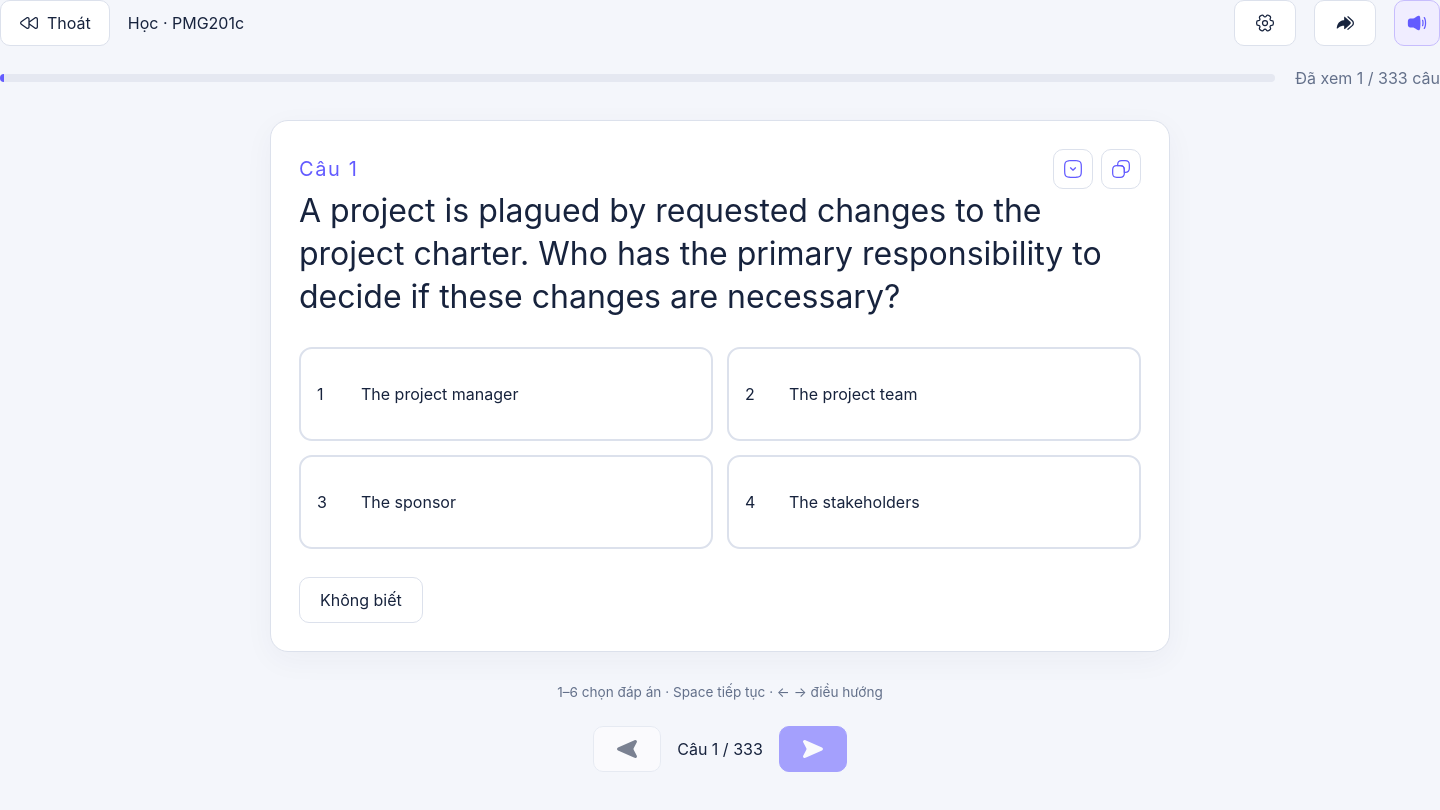
Test: PMG201c StudyShell › selects multiple answers, submits explicitly, and reveals every correct answer
The width and height of the screenshot is (1440, 810).
Check: the text "Câu 1" is shown, box [299,154,358,184]
Click the button named "Chuyển câu hỏi". click: (1345, 23)
box: [1314,0,1376,46]
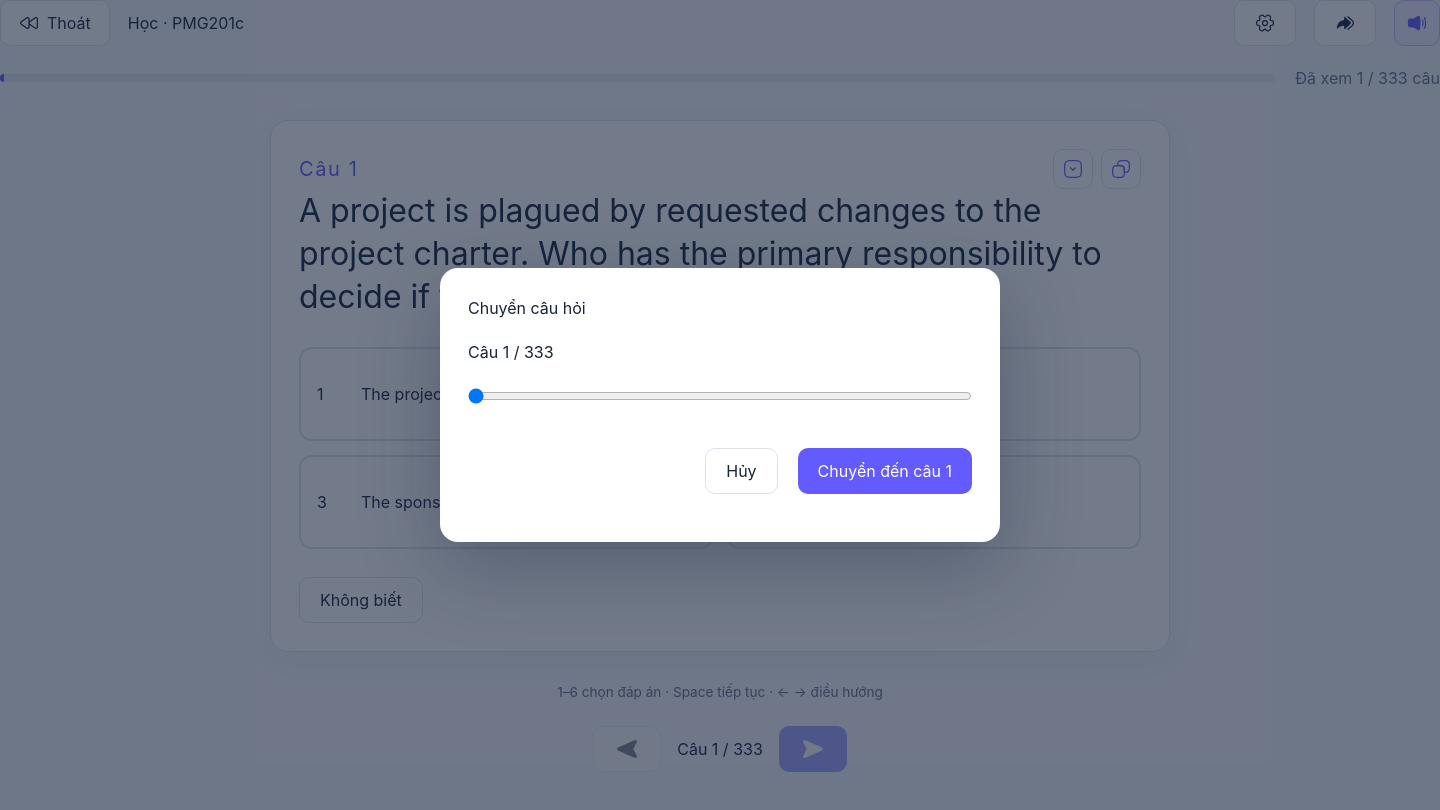
Set the slider named "Vị trí câu hỏi" to "90". click: (607, 396)
box: [468,388,972,404]
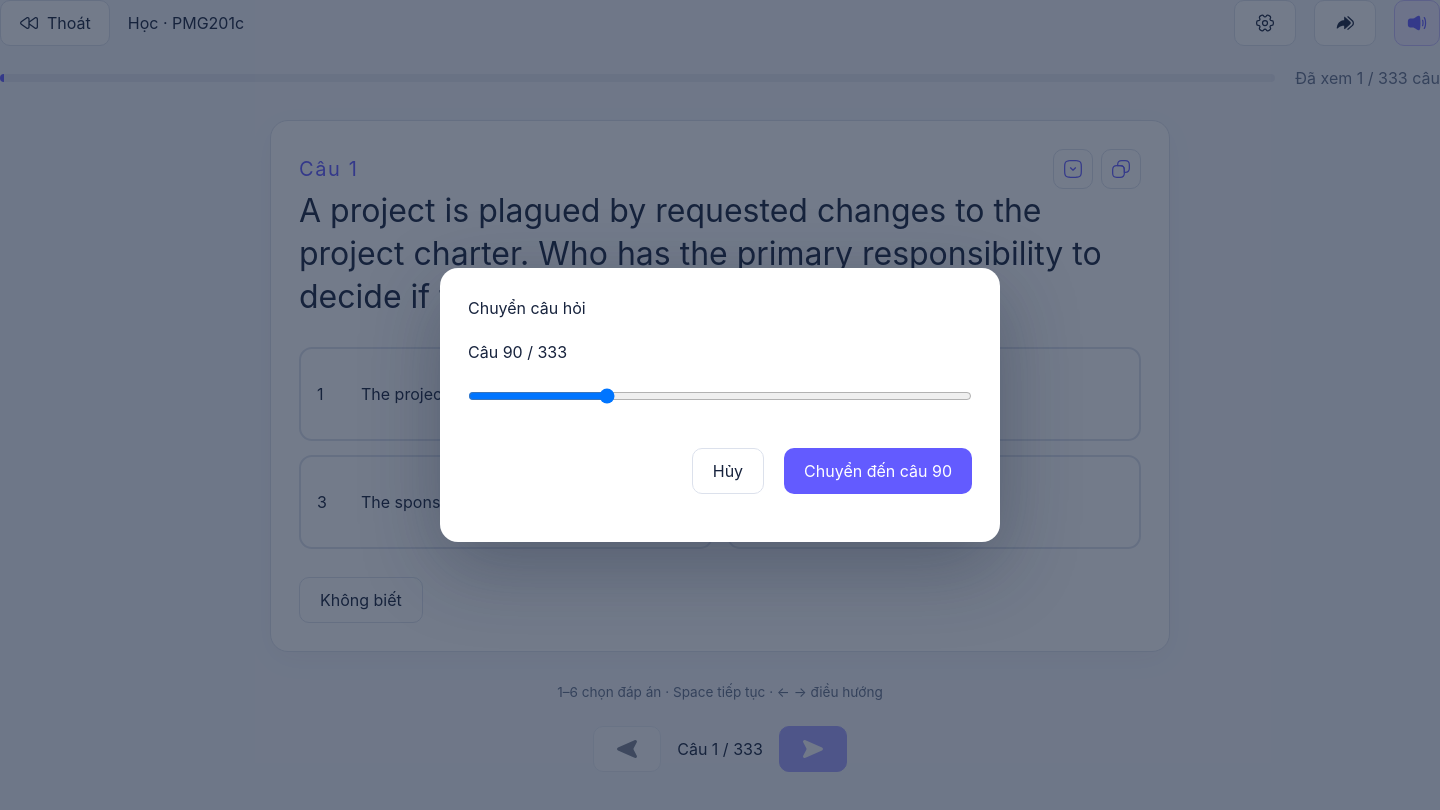
Click the button "Chuyển đến câu 90". click: (878, 471)
box: [784,448,972,494]
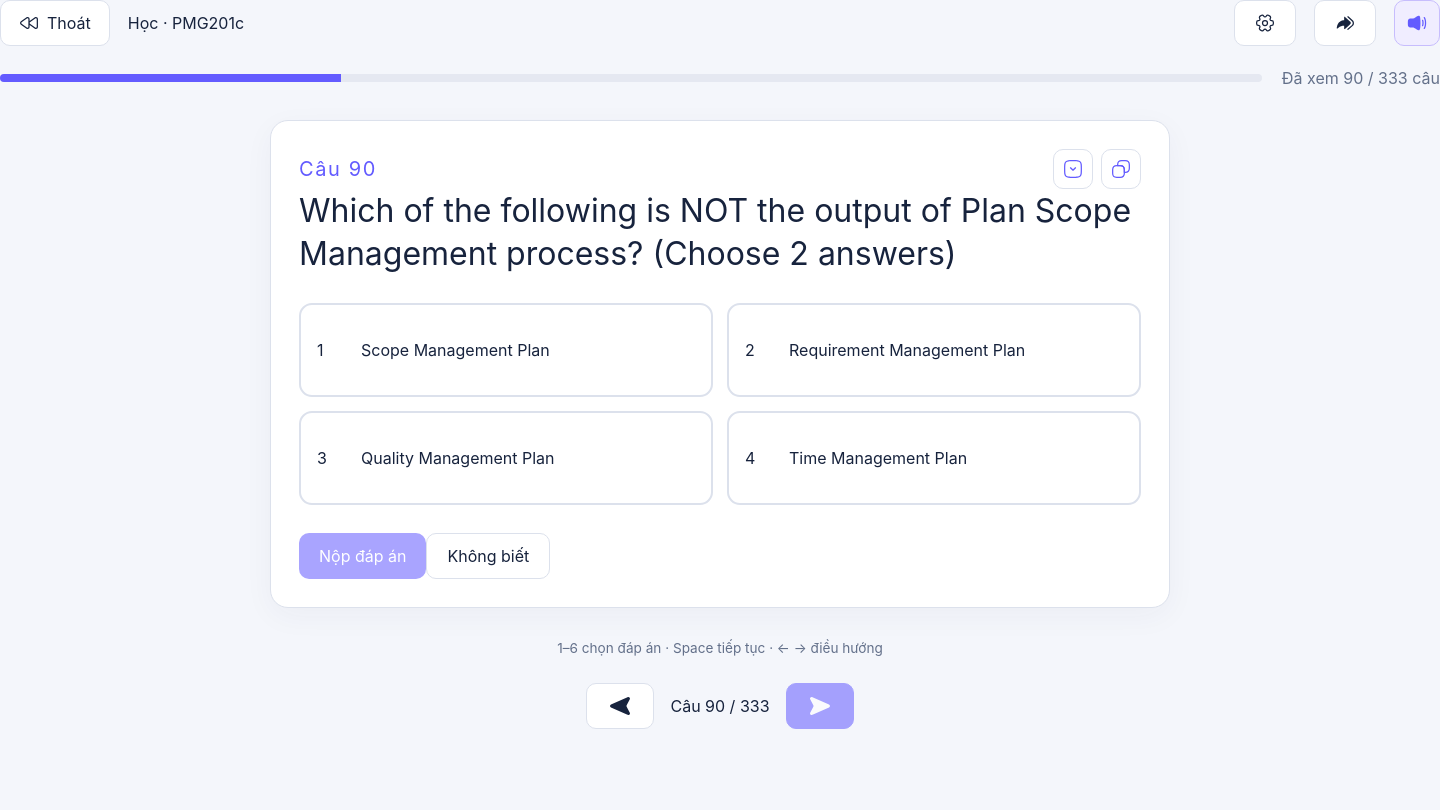
Click the button "3 Quality Management Plan". click: (506, 458)
box: [299,411,713,505]
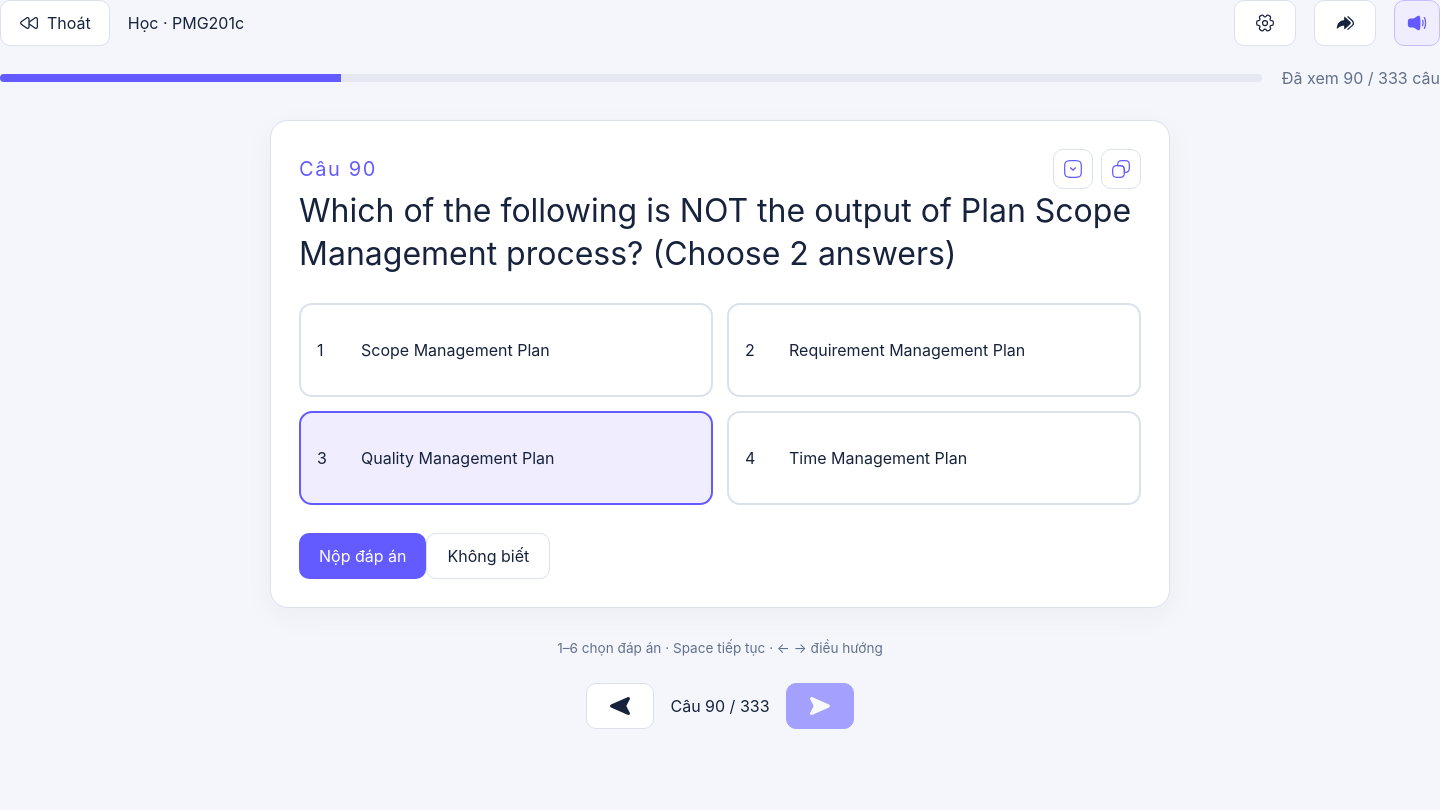
Check: the text "Chính xác" is not shown
Check: the button "3 Quality Management Plan" is pressed, box [299,411,713,505]
Click the button "4 Time Management Plan". click: (934, 458)
box: [727,411,1141,505]
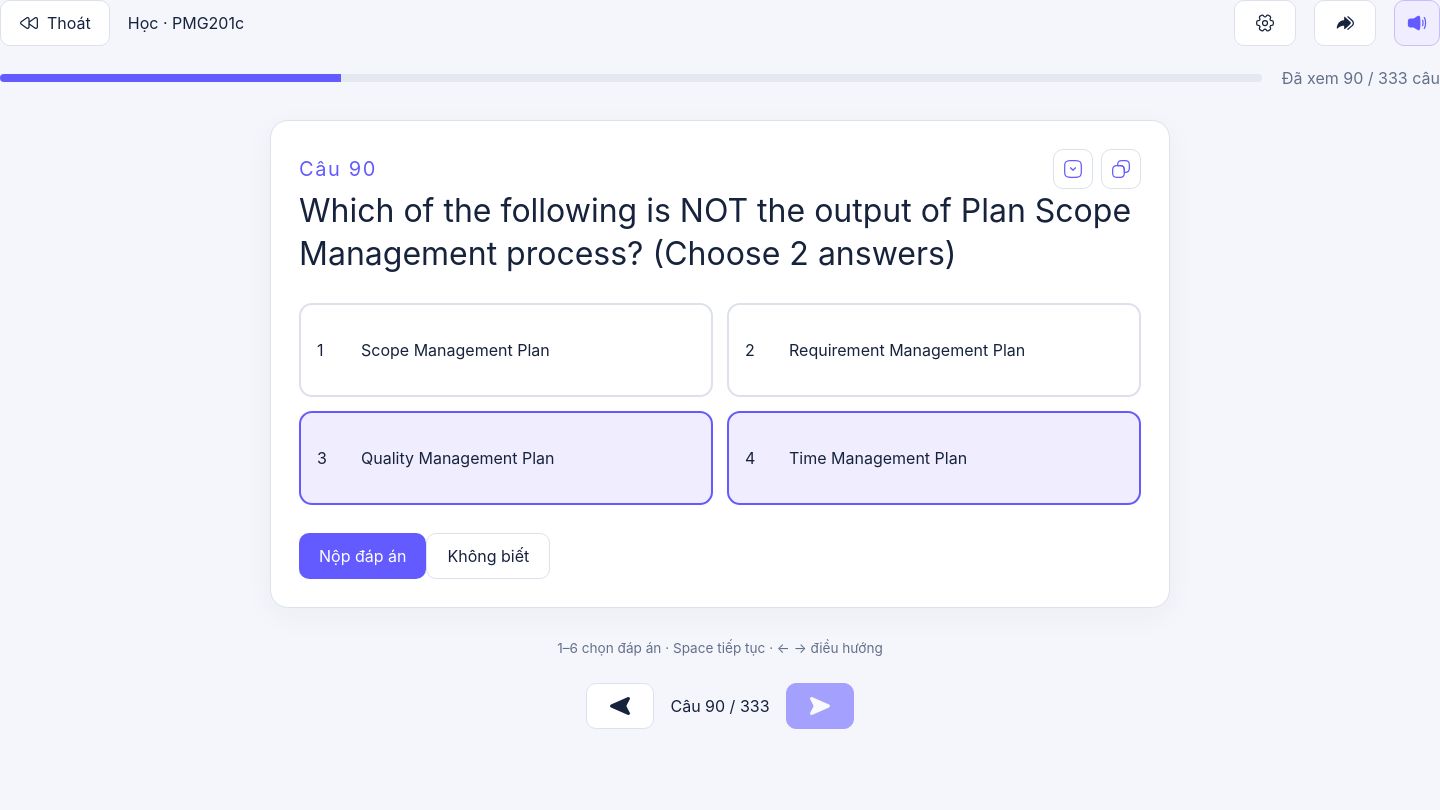
Click the button "Nộp đáp án". click: (363, 556)
box: [299,533,426,579]
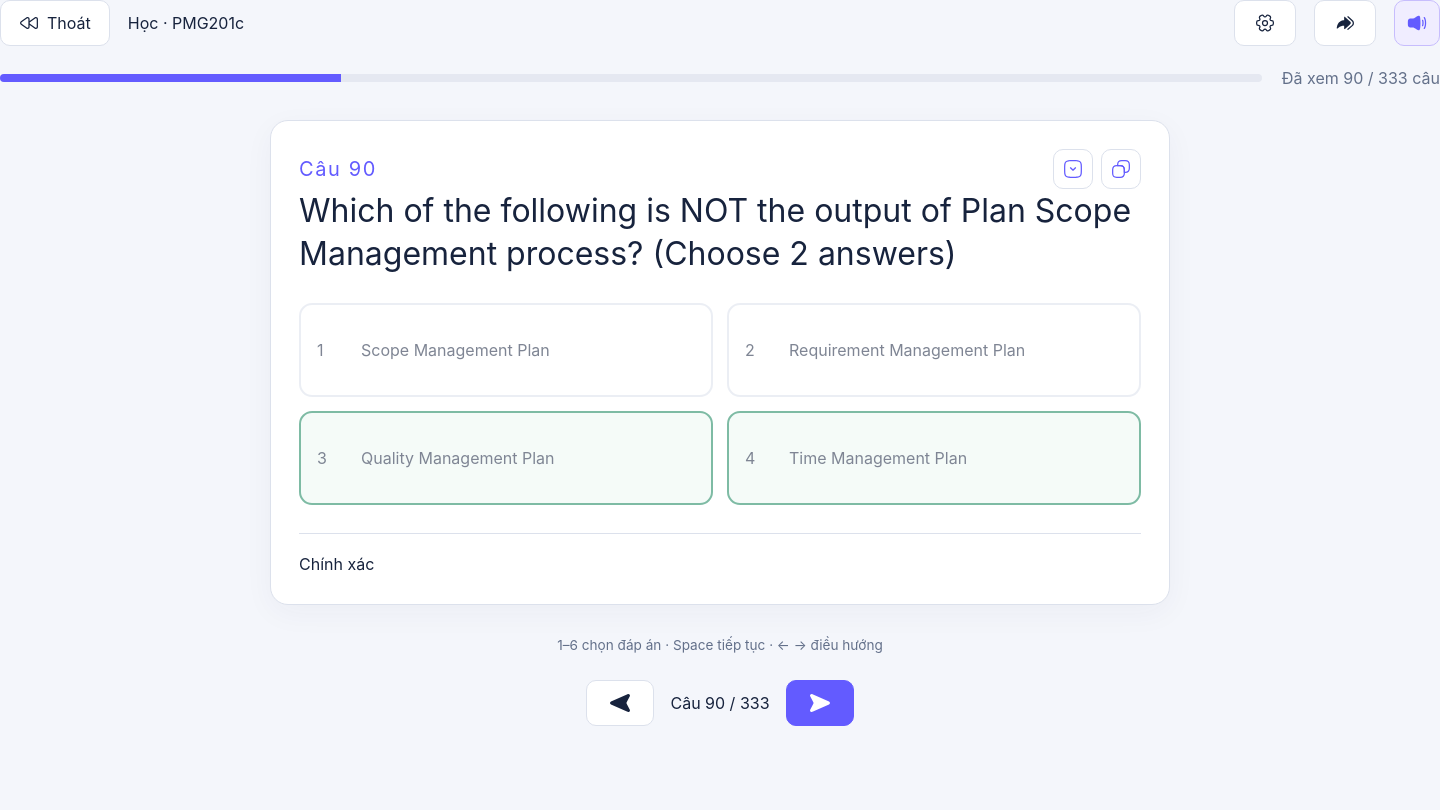
Check: the heading "Chính xác" is shown, box [299,554,374,574]
